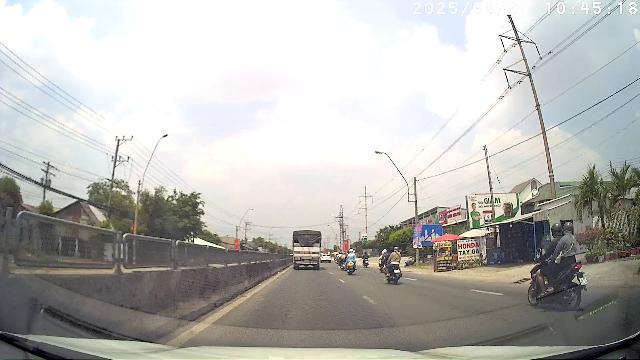421-ket-thuc-khu-dong-dan-cu: (420, 225, 442, 243)
